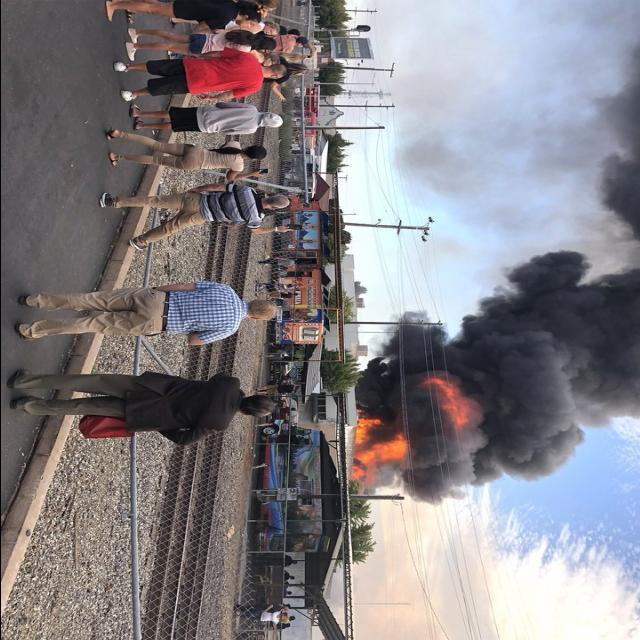Fire: (294, 358, 484, 538)
